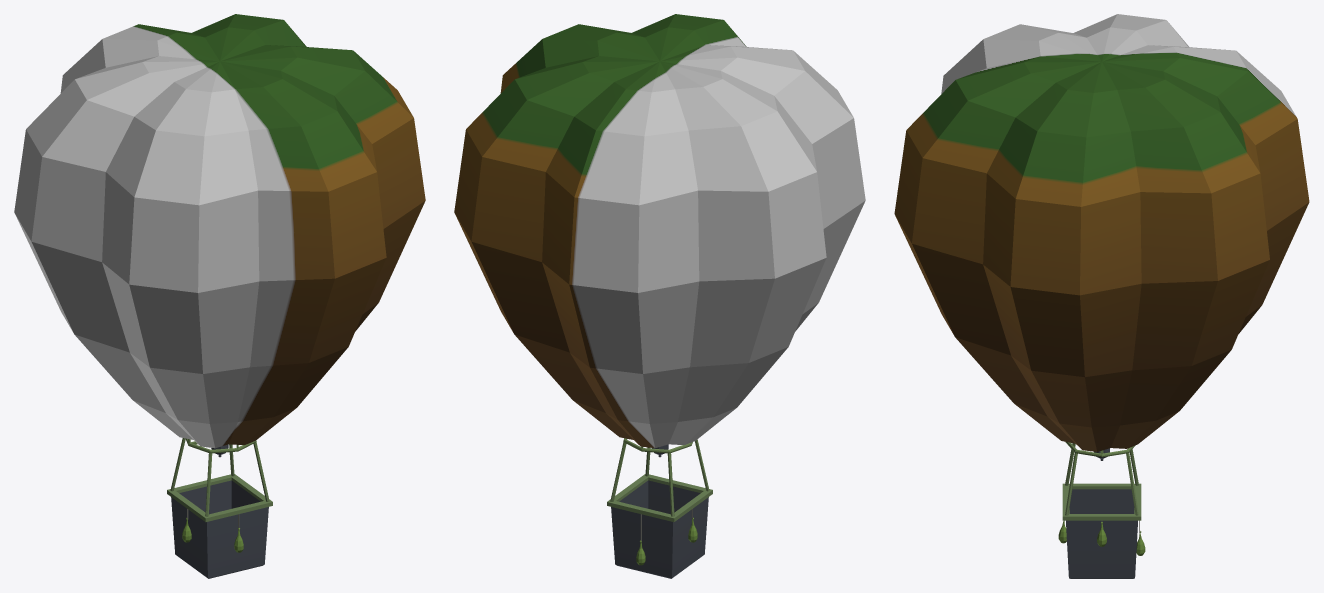
The model's file is AirBalloon_03.fbx.
3 renders of one model, left to right at view 1: azimuth 30°, elevation 25°; view 2: azimuth 150°, elevation 25°; view 3: azimuth 270°, elevation 25°, orthographic.
Visible parts, largest first — view 1: AirBalloon_03; view 2: AirBalloon_03; view 3: AirBalloon_03.
Boxes of the visible parts, x1,y1,x2,y2 form: AirBalloon_03: (14, 14, 425, 578); AirBalloon_03: (454, 14, 865, 578); AirBalloon_03: (894, 14, 1309, 578).
Bounding box in the file's own units: 6.79 × 9.15 × 6.81.
